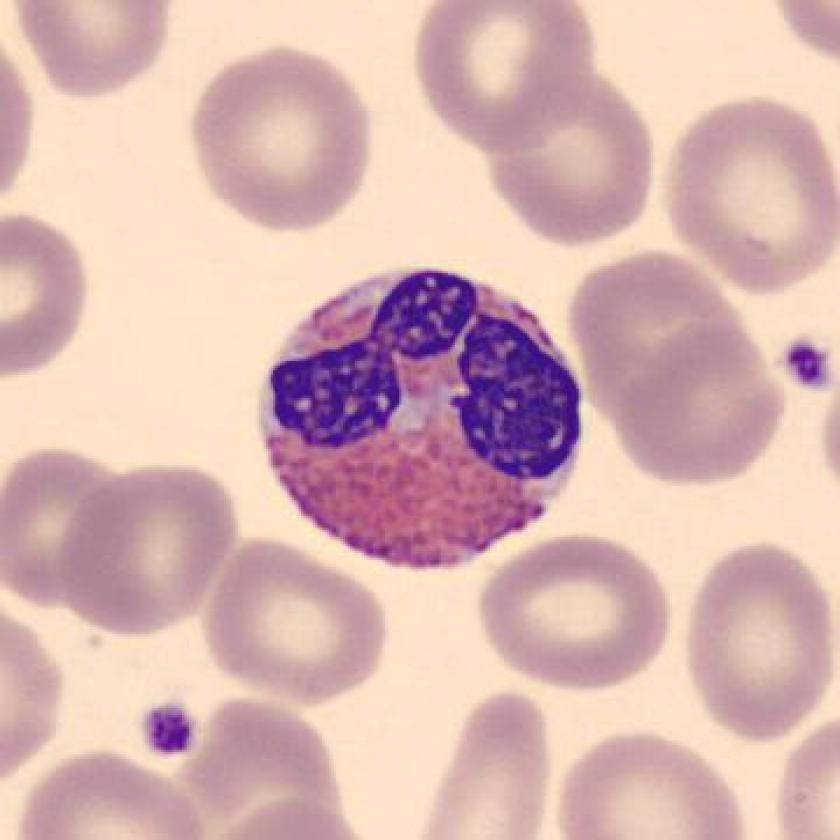eosinophil: (256, 256, 592, 580)
